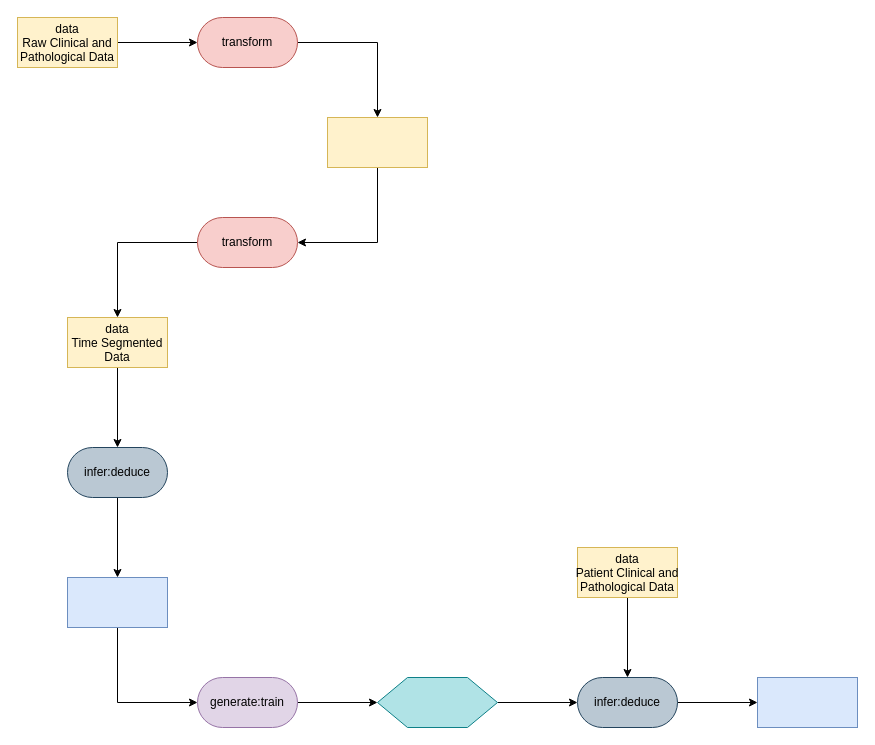
The diagram is 875 pixels wide and 745 high, and some of its shapes have lost their labels. The box of each missing label's shape, as (x1, y1, x2, y2) in pixels:
data Processed and Normalized: (326, 116, 428, 168)
model:hybrid DS Tool: (376, 676, 498, 728)
symbol Prognostic Factors per Time: (66, 576, 168, 628)
symbol Relapse and Factors: (756, 676, 858, 728)
